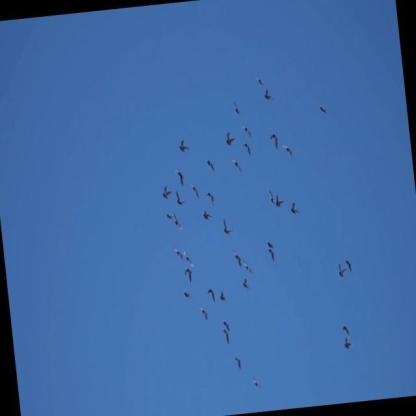bird: (182, 249, 195, 268), (231, 251, 243, 271), (177, 137, 190, 154), (269, 132, 280, 151), (205, 287, 216, 306), (262, 85, 274, 102), (174, 189, 186, 206), (175, 167, 185, 187), (222, 218, 233, 236), (160, 185, 172, 201), (251, 373, 262, 390), (224, 131, 235, 148), (274, 193, 286, 208), (172, 212, 182, 230), (231, 158, 242, 174), (183, 267, 194, 283), (289, 198, 299, 215), (343, 256, 353, 273), (283, 142, 294, 157), (199, 305, 210, 320), (189, 182, 199, 198), (336, 261, 346, 277), (232, 100, 241, 117), (242, 141, 251, 158), (205, 158, 215, 173), (206, 190, 216, 205), (241, 277, 251, 292), (222, 317, 232, 332), (268, 188, 276, 206), (201, 209, 212, 222), (317, 103, 327, 117), (343, 336, 353, 350), (243, 259, 252, 274), (242, 125, 252, 137), (222, 327, 230, 342), (341, 324, 351, 336), (235, 355, 243, 369), (219, 287, 226, 302), (174, 248, 182, 261), (254, 75, 263, 86), (165, 210, 173, 220), (267, 239, 275, 249), (183, 289, 191, 299), (268, 249, 274, 261)
